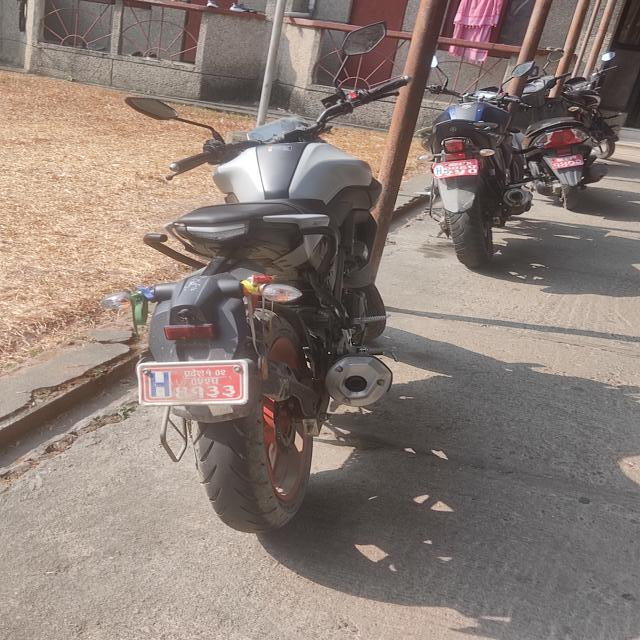license_plate: (126, 346, 254, 426), (430, 146, 492, 192), (545, 146, 601, 177)
